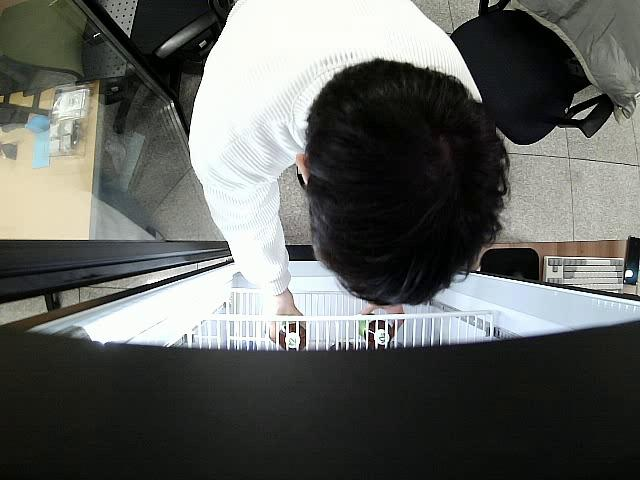00_hand: (263, 296, 304, 344)
19_17cha: (356, 314, 392, 349), (277, 323, 306, 351)
